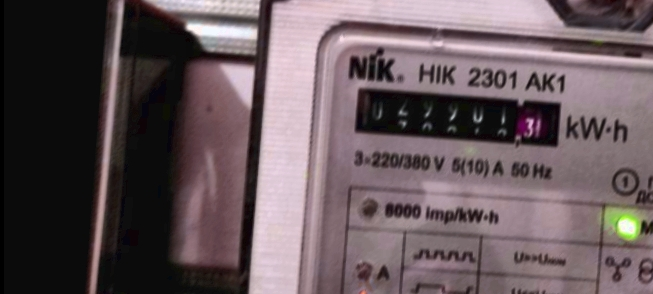0: (469, 98, 486, 124), (368, 96, 385, 119)
1: (496, 100, 510, 125)
2: (394, 93, 411, 116)
3: (520, 114, 537, 138)
9: (445, 98, 459, 122), (420, 95, 434, 117)
screen: (345, 78, 570, 156)
